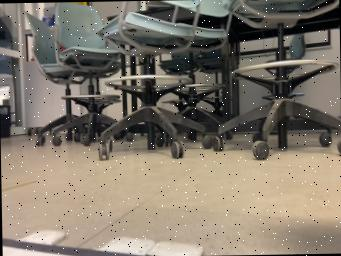street: (2, 238, 158, 256), (2, 238, 158, 256), (2, 238, 158, 256), (2, 238, 158, 256), (2, 238, 158, 256), (2, 238, 158, 256)
